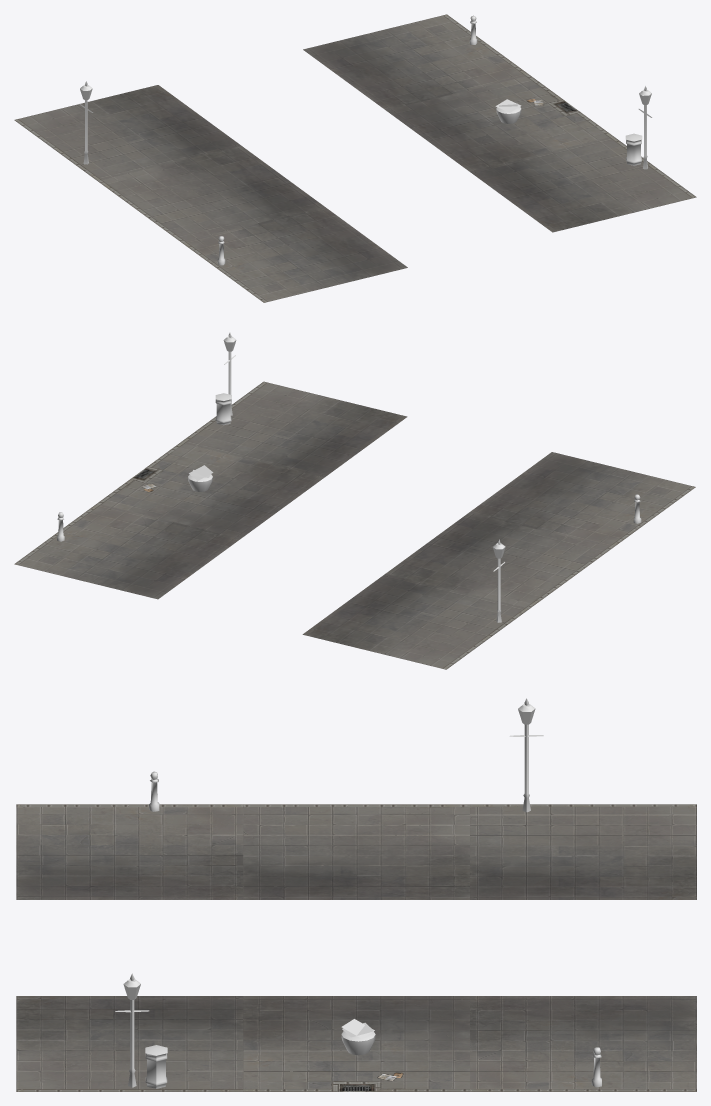
Rendered from propsonly_h44.gltf.
The picture shows the model from 3 angles, top to bottom: view 1: azimuth 30°, elevation 25°; view 2: azimuth 150°, elevation 25°; view 3: azimuth 270°, elevation 25°; orthographic projection. The views are drawn at different scales.
Parts seen in each view (by area): view 1: file_h44_center3.001, file_h44_endr.002, file_h44_endr.001, file_h44_endl.001, file_h44_endl.002, file_h44_center2.002, prop_flowerpot_h44_1, prop_trashcan_h44_1; view 2: file_h44_endl.001, file_h44_endr.002, file_h44_endr.001, file_h44_endl.002, file_h44_center3.001, file_h44_center2.002; view 3: file_h44_endr.001, file_h44_center3.001, file_h44_endl.001, file_h44_endr.002, file_h44_center2.002, file_h44_endl.002, prop_flowerpot_h44_1, prop_trashcan_h44_1, prop_lightpost_h44_2, prop_lightpost_h44_1.
Part boxes in pixels (x1,y1,x2,y2): file_h44_center3.001: [98, 146, 324, 241]; file_h44_endr.002: [303, 14, 529, 110]; file_h44_endr.001: [181, 207, 407, 302]; file_h44_endl.001: [14, 85, 241, 180]; file_h44_endl.002: [469, 136, 696, 232]; file_h44_center2.002: [386, 75, 612, 171]; prop_flowerpot_h44_1: [495, 99, 521, 123]; prop_trashcan_h44_1: [625, 133, 642, 165]; file_h44_endl.001: [302, 573, 528, 669]; file_h44_endr.002: [14, 503, 240, 599]; file_h44_endr.001: [469, 452, 695, 547]; file_h44_endl.002: [181, 381, 407, 477]; file_h44_center3.001: [386, 513, 612, 608]; file_h44_center2.002: [97, 442, 323, 538]; file_h44_endr.001: [16, 804, 243, 899]; file_h44_center3.001: [243, 804, 469, 899]; file_h44_endl.001: [470, 804, 696, 899]; file_h44_endr.002: [470, 996, 696, 1091]; file_h44_center2.002: [243, 996, 469, 1091]; file_h44_endl.002: [16, 996, 243, 1091]; prop_flowerpot_h44_1: [341, 1019, 375, 1055]; prop_trashcan_h44_1: [145, 1045, 167, 1088]; prop_lightpost_h44_2: [115, 973, 149, 1087]; prop_lightpost_h44_1: [510, 698, 543, 812].
Size of what is drawn, in the model's own units: 3 by 0.5487 by 3.01.
